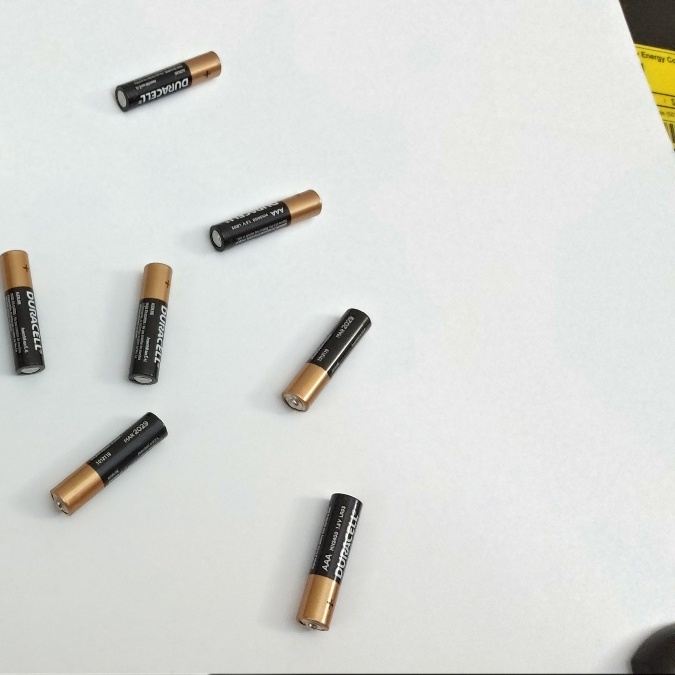battery: (46, 399, 172, 528), (286, 485, 370, 643), (275, 300, 372, 412), (207, 183, 327, 255), (107, 47, 226, 118), (124, 255, 179, 385)
